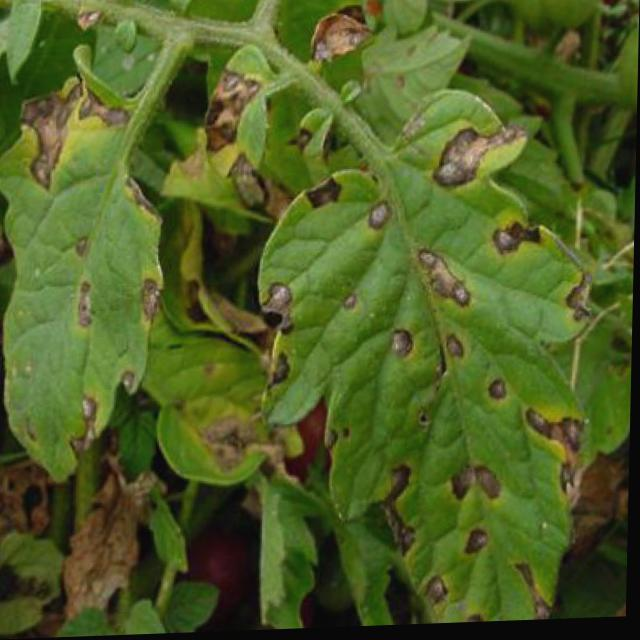Tomato Septoria spot leaf: (254, 64, 614, 629), (0, 42, 178, 496)
